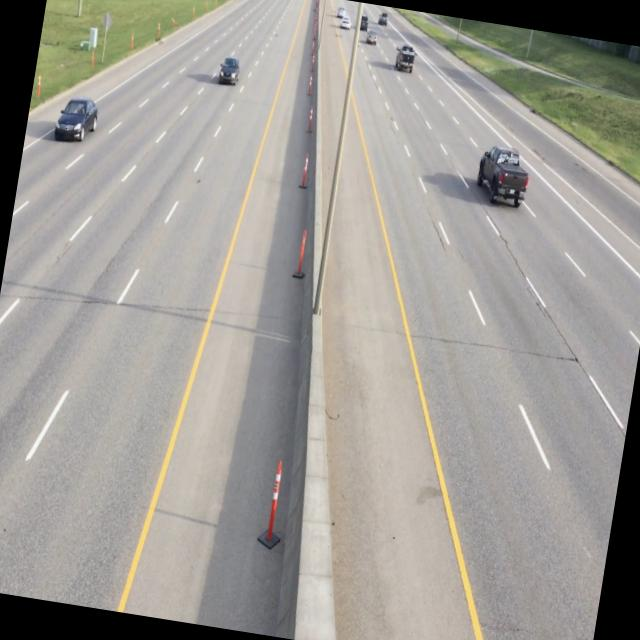Vehicle: (474, 141, 535, 210), (54, 92, 100, 152), (216, 51, 243, 90), (394, 42, 419, 76)
